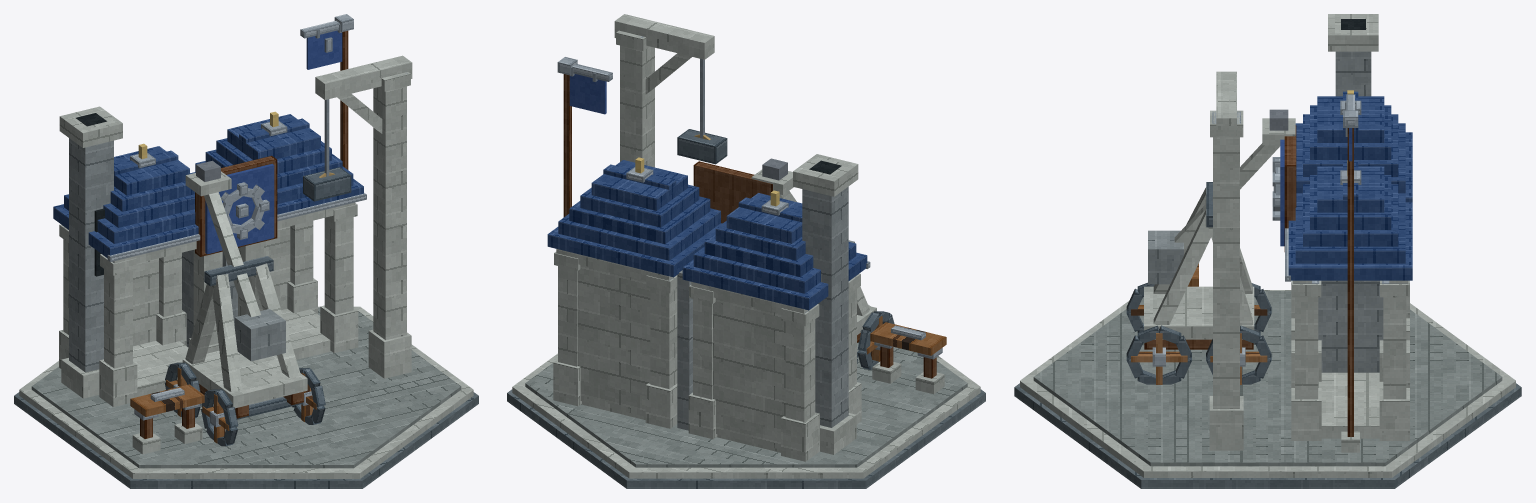
The model's file is grand_arsenal_hex_v1.glb.
3 renders of one model, left to right at view 1: azimuth 30°, elevation 25°; view 2: azimuth 150°, elevation 25°; view 3: azimuth 270°, elevation 25°, orthographic. The views are drawn at different scales.
Visible parts, largest first — view 1: Grand_Arsenal_Hex_V1_Focus, Grand_Arsenal_Hex_V1_Foundation, Grand_Arsenal_Hex_V1_Hall, Grand_Arsenal_Hex_V1_Roofs, Grand_Arsenal_Hex_V1_Faction, Grand_Arsenal_Hex_V1_Training, Grand_Arsenal_Hex_V1_Details; view 2: Grand_Arsenal_Hex_V1_Hall, Grand_Arsenal_Hex_V1_Foundation, Grand_Arsenal_Hex_V1_Roofs, Grand_Arsenal_Hex_V1_Focus, Grand_Arsenal_Hex_V1_Faction, Grand_Arsenal_Hex_V1_Training; view 3: Grand_Arsenal_Hex_V1_Foundation, Grand_Arsenal_Hex_V1_Focus, Grand_Arsenal_Hex_V1_Roofs, Grand_Arsenal_Hex_V1_Hall, Grand_Arsenal_Hex_V1_Faction.
Boxes of the visible parts, box(x1,y1,x2,y2) form: Grand_Arsenal_Hex_V1_Focus: box(59, 55, 412, 446); Grand_Arsenal_Hex_V1_Foundation: box(14, 306, 478, 488); Grand_Arsenal_Hex_V1_Hall: box(59, 202, 358, 406); Grand_Arsenal_Hex_V1_Roofs: box(53, 111, 366, 261); Grand_Arsenal_Hex_V1_Faction: box(195, 14, 353, 256); Grand_Arsenal_Hex_V1_Training: box(130, 384, 204, 454); Grand_Arsenal_Hex_V1_Details: box(76, 113, 106, 276); Grand_Arsenal_Hex_V1_Hall: box(553, 249, 861, 461); Grand_Arsenal_Hex_V1_Foundation: box(507, 304, 985, 488); Grand_Arsenal_Hex_V1_Roofs: box(547, 157, 870, 310); Grand_Arsenal_Hex_V1_Focus: box(614, 14, 894, 454); Grand_Arsenal_Hex_V1_Faction: box(557, 57, 772, 223); Grand_Arsenal_Hex_V1_Training: box(870, 322, 946, 394); Grand_Arsenal_Hex_V1_Foundation: box(1014, 290, 1521, 488); Grand_Arsenal_Hex_V1_Focus: box(1126, 14, 1378, 450); Grand_Arsenal_Hex_V1_Roofs: box(1285, 90, 1412, 281); Grand_Arsenal_Hex_V1_Hall: box(1291, 280, 1409, 440); Grand_Arsenal_Hex_V1_Faction: box(1272, 94, 1359, 452).
Size of the model in its own units: 1.59 by 1.42 by 1.84.
Materials: 1 (1 with a texture image).
